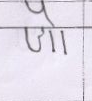au_matra: (31, 0, 74, 51)
